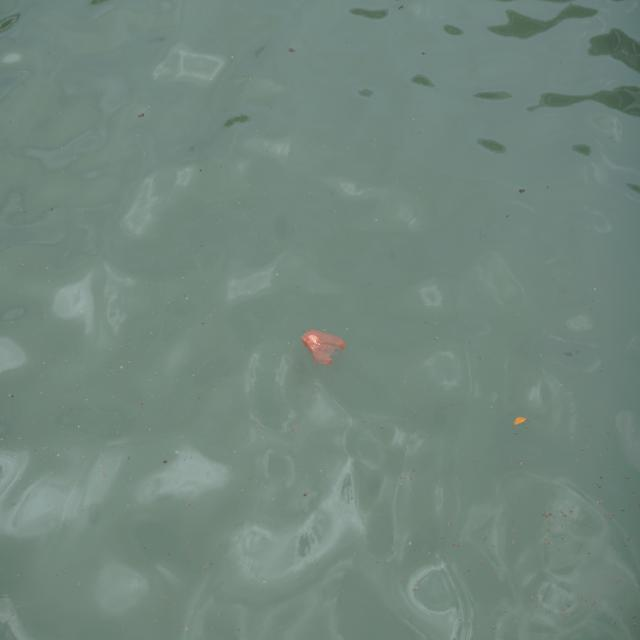Kantong Plastik: (300, 323, 350, 376)
